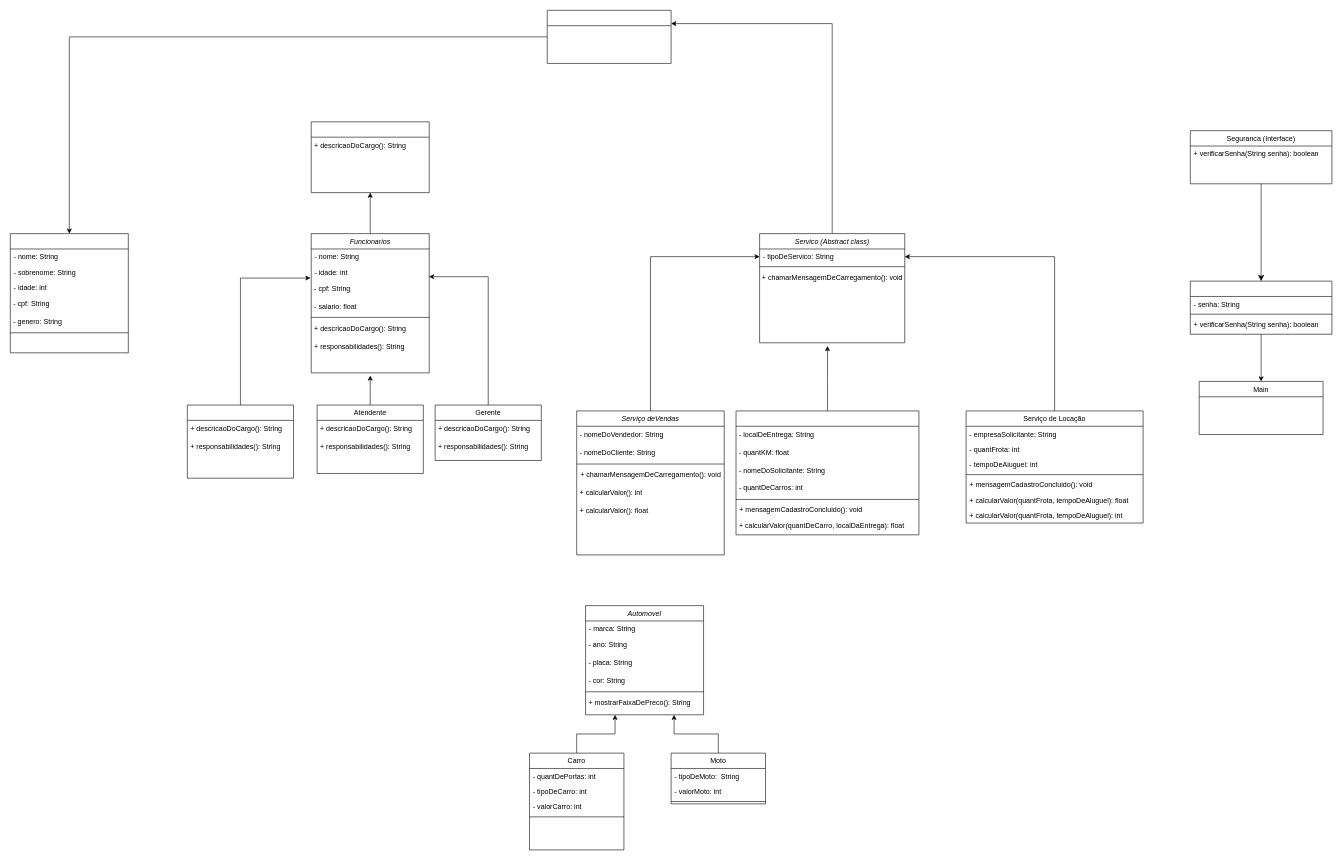
Some shapes in this 1342 by 860 pixel diagram are drawn without their labels. The shapes that lost their labels are listed below. From the top down, each one's box as (x1, y1, x2, y2) in pixels, then its label:
(547, 10, 671, 63): EmpresaAutomotiva (Interface)
(311, 121, 429, 193): Descrição (Interface)
(10, 233, 128, 353): Cliente
(1190, 281, 1332, 334): Verificacao
(187, 404, 294, 478): Vendedor
(735, 410, 919, 535): Serviço De Transporte
